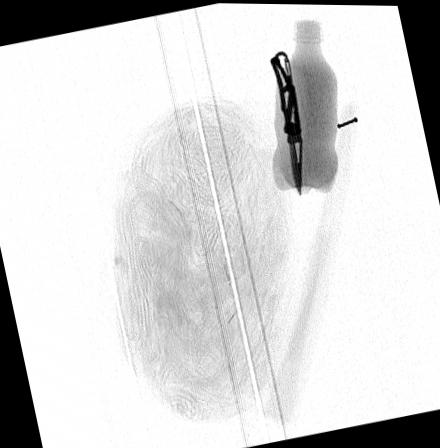Knife: (268, 50, 302, 196)
